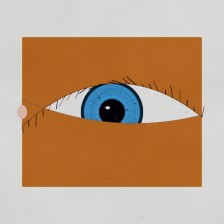pinguecula_lesion: (161, 98, 190, 121)
